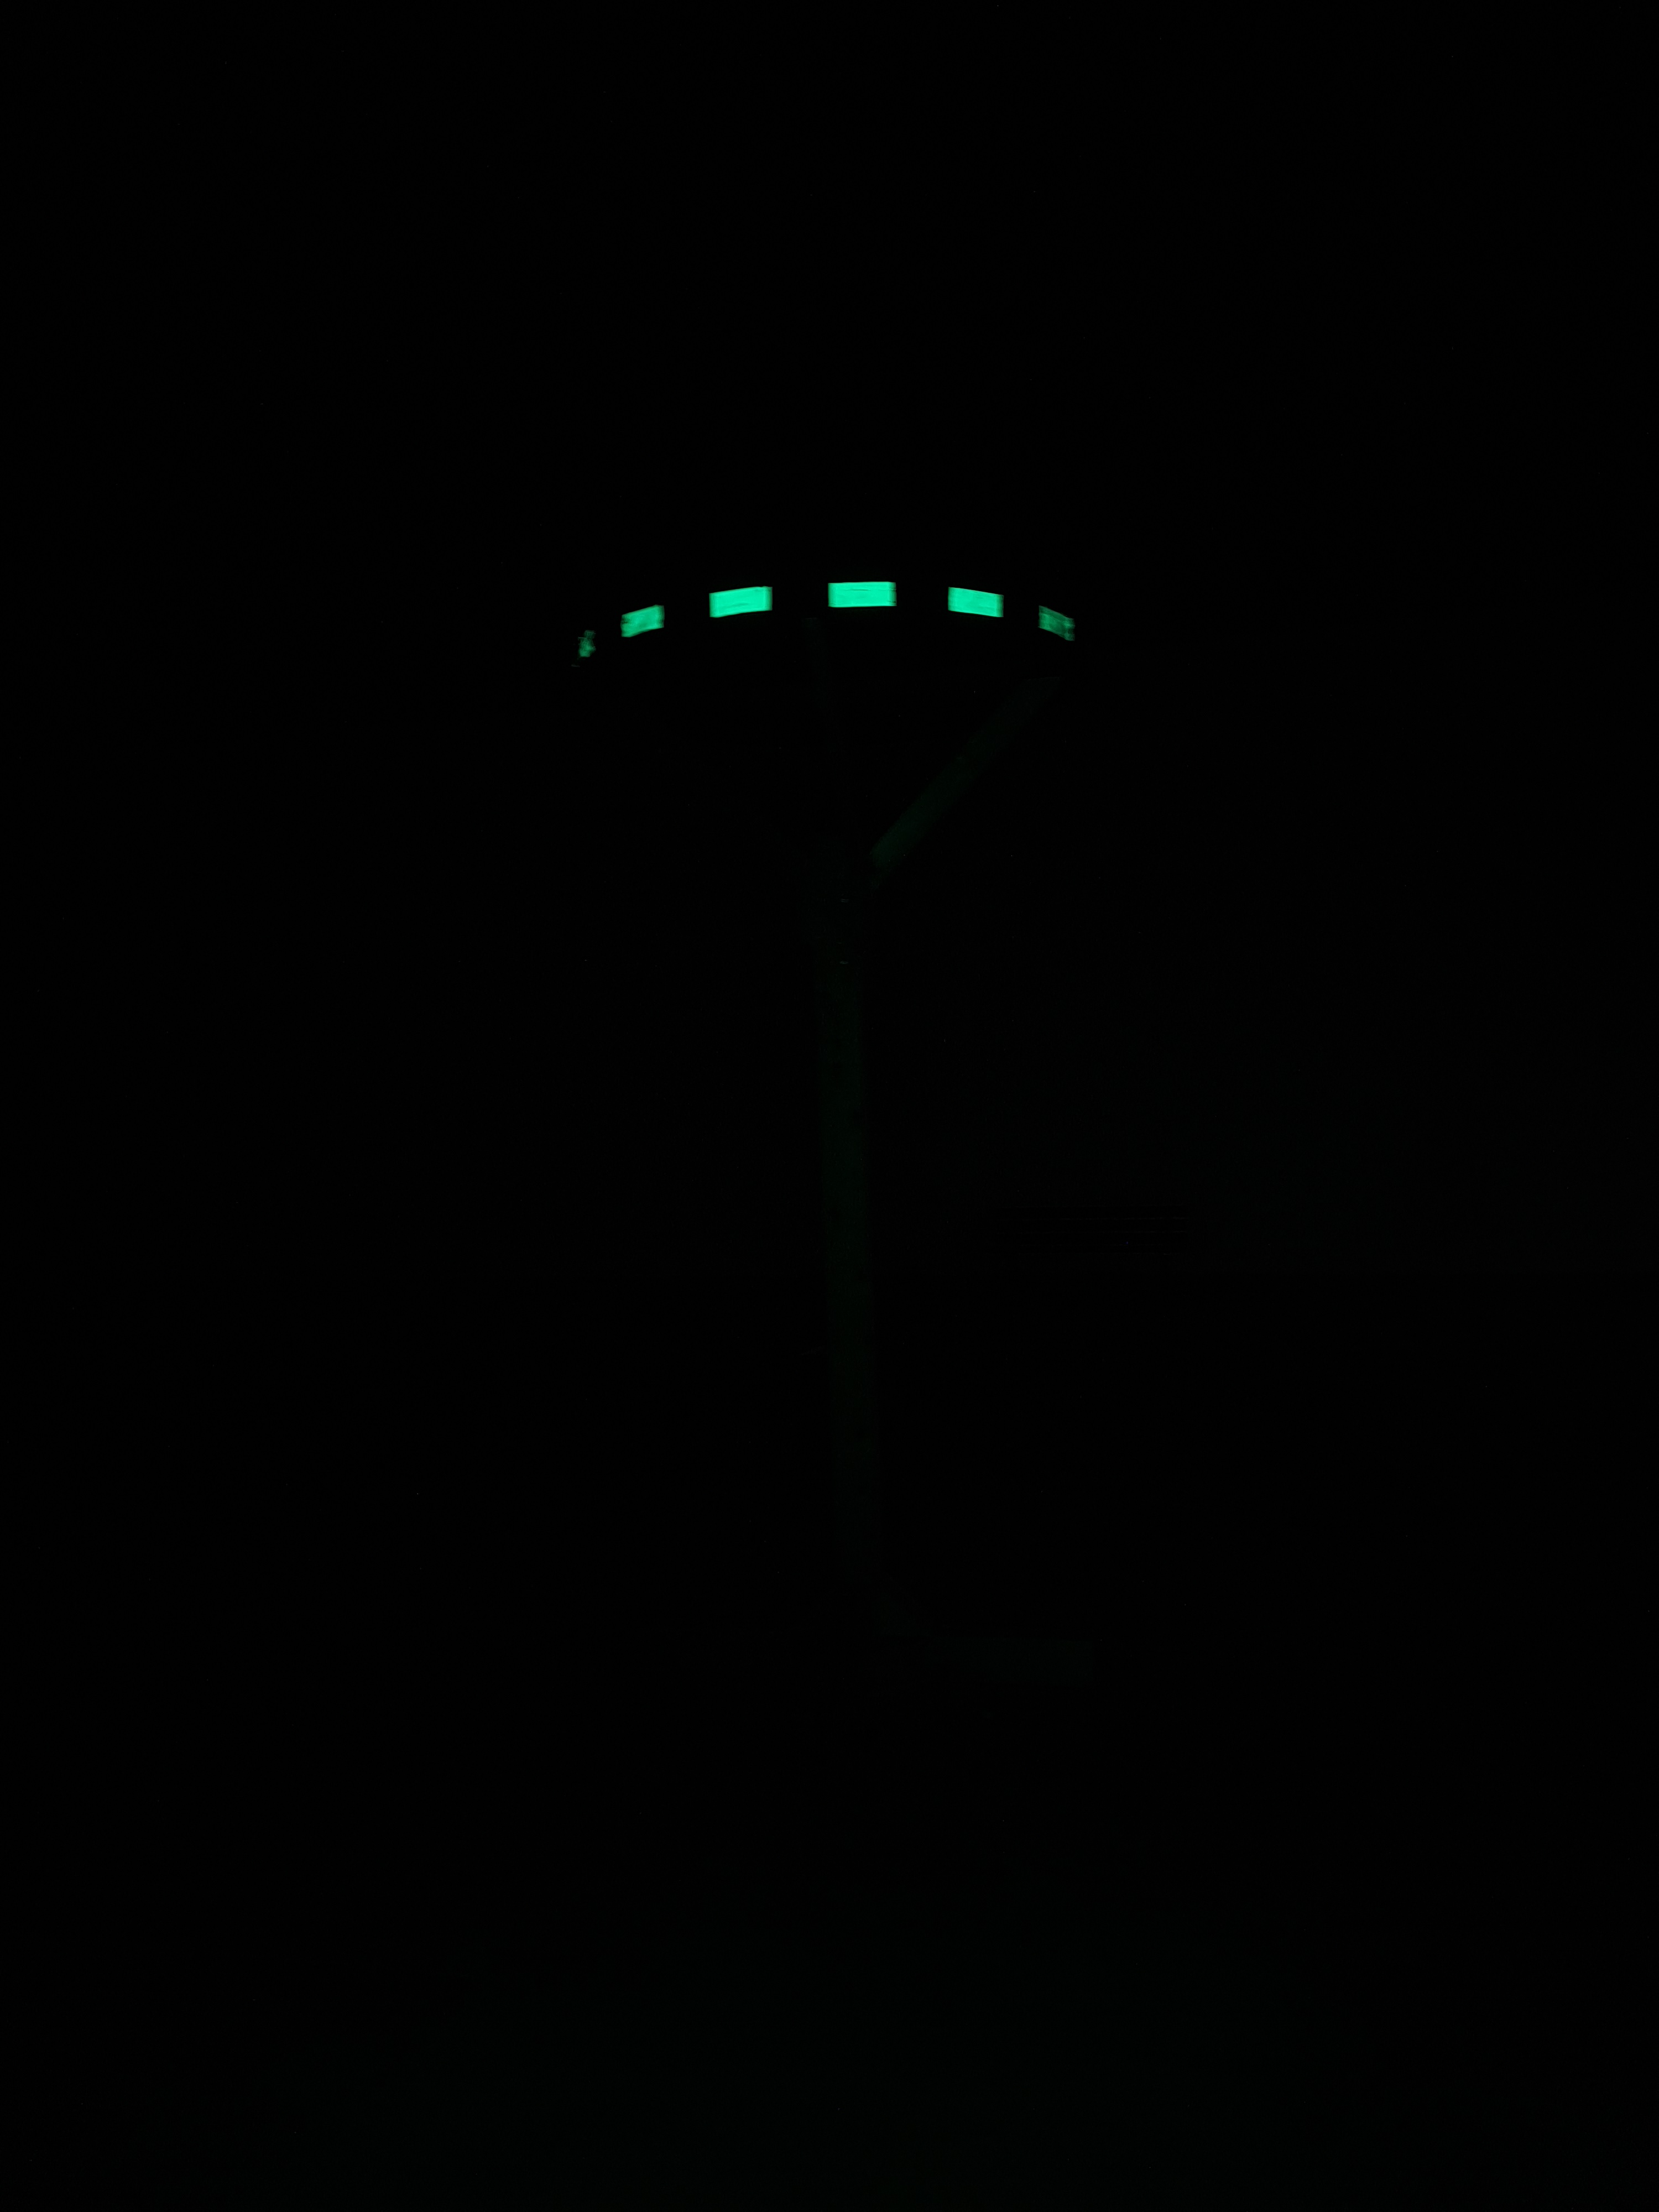hoop: (559, 570, 1086, 669)
